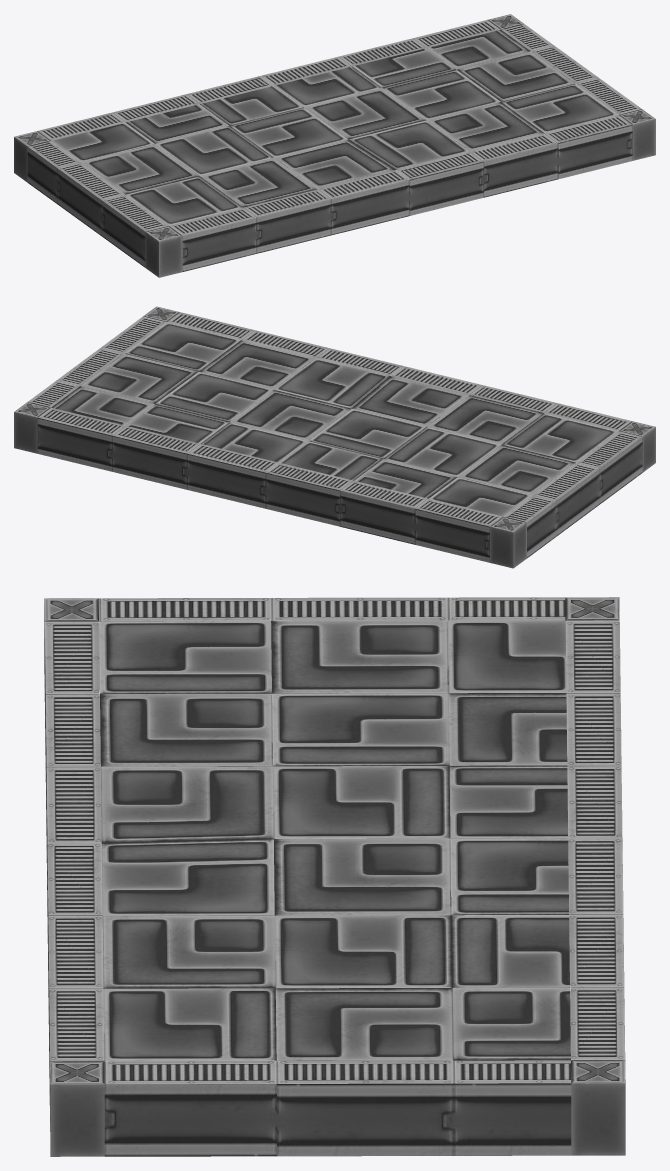
The model's file is ARC1110016.fbx.
3 views of the same model, one above another, from view 1: azimuth 30°, elevation 25°; view 2: azimuth 150°, elevation 25°; view 3: azimuth 270°, elevation 25° (orthographic). The views are drawn at different scales.
Parts seen in each view (by area): view 1: smARC1110016; view 2: smARC1110016; view 3: smARC1110016.
Boxes of the visible parts, <box> form: smARC1110016: <box>14,14,655,277</box>; smARC1110016: <box>14,306,655,568</box>; smARC1110016: <box>44,597,625,1156</box>.
Bounding box in the file's own units: 530 × 36.7 × 267.
1 material, 1 textured.
